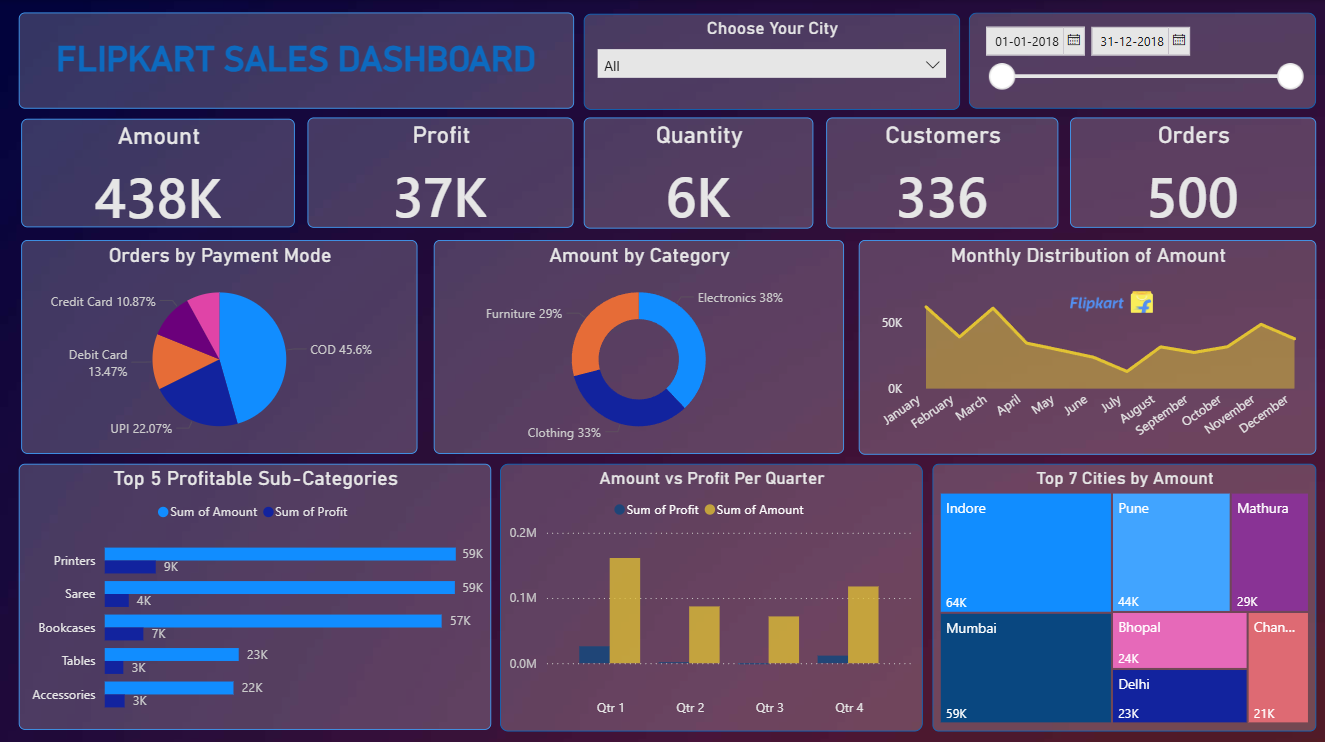

This screenshot's page, from the dashboard's own definition file:
{"tool":"powerbi","page":{"name":"Page 1","canvas":[1280,720],"ordinal":0},"visuals":[{"type":"textbox","box":[18.1,12.1,535.7,92.9],"z":0},{"type":"image","box":[1032.7,278.7,79.6,25.3],"z":1000},{"type":"donutChart","title":"Amount by Category","fields":{"Category":["Details.Category"],"Y":["Sum(Details.Amount)"]},"box":[418.6,231.6,395.7,206.3],"z":2000},{"type":"pieChart","title":" Orders by Payment Mode","fields":{"Category":["Details.PaymentMode"],"Y":["CountNonNull(Details.Order ID)"]},"box":[20.5,231.6,382.4,206.3],"z":3000},{"type":"clusteredBarChart","title":"Top 5 Profitable Sub-Categories","fields":{"Category":["Details.Sub-Category"],"Y":["Sum(Details.Amount)","Sum(Details.Profit)"]},"box":[18.1,447.6,456,257],"z":4000},{"type":"cardVisual","title":"Orders","fields":{"Data":["Count(Details.Order ID)"]},"box":[1032.7,113.4,237.7,106.2],"z":5000},{"type":"cardVisual","title":"Quantity","fields":{"Data":["Sum(Details.Quantity)"]},"box":[563.4,113.4,222,107.4],"z":6000},{"type":"cardVisual","title":"Customers","fields":{"Data":["Count(Orders.CustomerName)"]},"box":[797.5,113.4,224.4,107.4],"z":7000},{"type":"cardVisual","title":"Amount","fields":{"Data":["Sum(Details.Amount)"]},"box":[20.5,114.6,264.2,105],"z":8000},{"type":"stackedAreaChart","title":"Monthly Distribution of Amount","fields":{"Category":["Orders.Order Date.Variation.Date Hierarchy.Month"],"Y":["Sum(Details.Amount)"]},"box":[828.8,231.6,441.6,207.5],"z":9000},{"type":"clusteredColumnChart","title":"Amount vs Profit Per Quarter","fields":{"Category":["Orders.Order Date.Variation.Date Hierarchy.Quarter"],"Y":["Sum(Details.Profit)","Sum(Details.Amount)"]},"box":[482.6,447.6,407.8,258.2],"z":10000},{"type":"treemap","title":"Top 7 Cities by Amount","fields":{"Group":["Orders.City"],"Values":["Sum(Details.Amount)"]},"box":[900,447.6,370.4,258.2],"z":11000},{"type":"slicer","fields":{"Values":["Orders.Order Date"]},"box":[935,12.1,335.4,92.9],"z":12000},{"type":"slicer","title":"Choose Your City","fields":{"Values":["Orders.City"]},"box":[563.4,13.3,363.1,92.9],"z":13000},{"type":"cardVisual","title":"Profit","fields":{"Data":["Sum(Details.Profit)"]},"box":[296.8,113.4,257,106.2],"z":14000}]}

Visuals, with their boxes in screenshot pixels (x1, y1, x2, y2), scaled from the page's 1280x720 canvas onto the 1325x742 screenshot:
textbox: rect(19, 12, 573, 108)
image: rect(1069, 287, 1151, 313)
"Amount by Category" donutChart: rect(433, 239, 843, 451)
" Orders by Payment Mode" pieChart: rect(21, 239, 417, 451)
"Top 5 Profitable Sub-Categories" clusteredBarChart: rect(19, 461, 491, 726)
"Orders" cardVisual: rect(1069, 117, 1315, 226)
"Quantity" cardVisual: rect(583, 117, 813, 228)
"Customers" cardVisual: rect(826, 117, 1058, 228)
"Amount" cardVisual: rect(21, 118, 295, 226)
"Monthly Distribution of Amount" stackedAreaChart: rect(858, 239, 1315, 453)
"Amount vs Profit Per Quarter" clusteredColumnChart: rect(500, 461, 922, 727)
"Top 7 Cities by Amount" treemap: rect(932, 461, 1315, 727)
slicer - Orders.Order Date: rect(968, 12, 1315, 108)
"Choose Your City" slicer: rect(583, 14, 959, 109)
"Profit" cardVisual: rect(307, 117, 573, 226)
